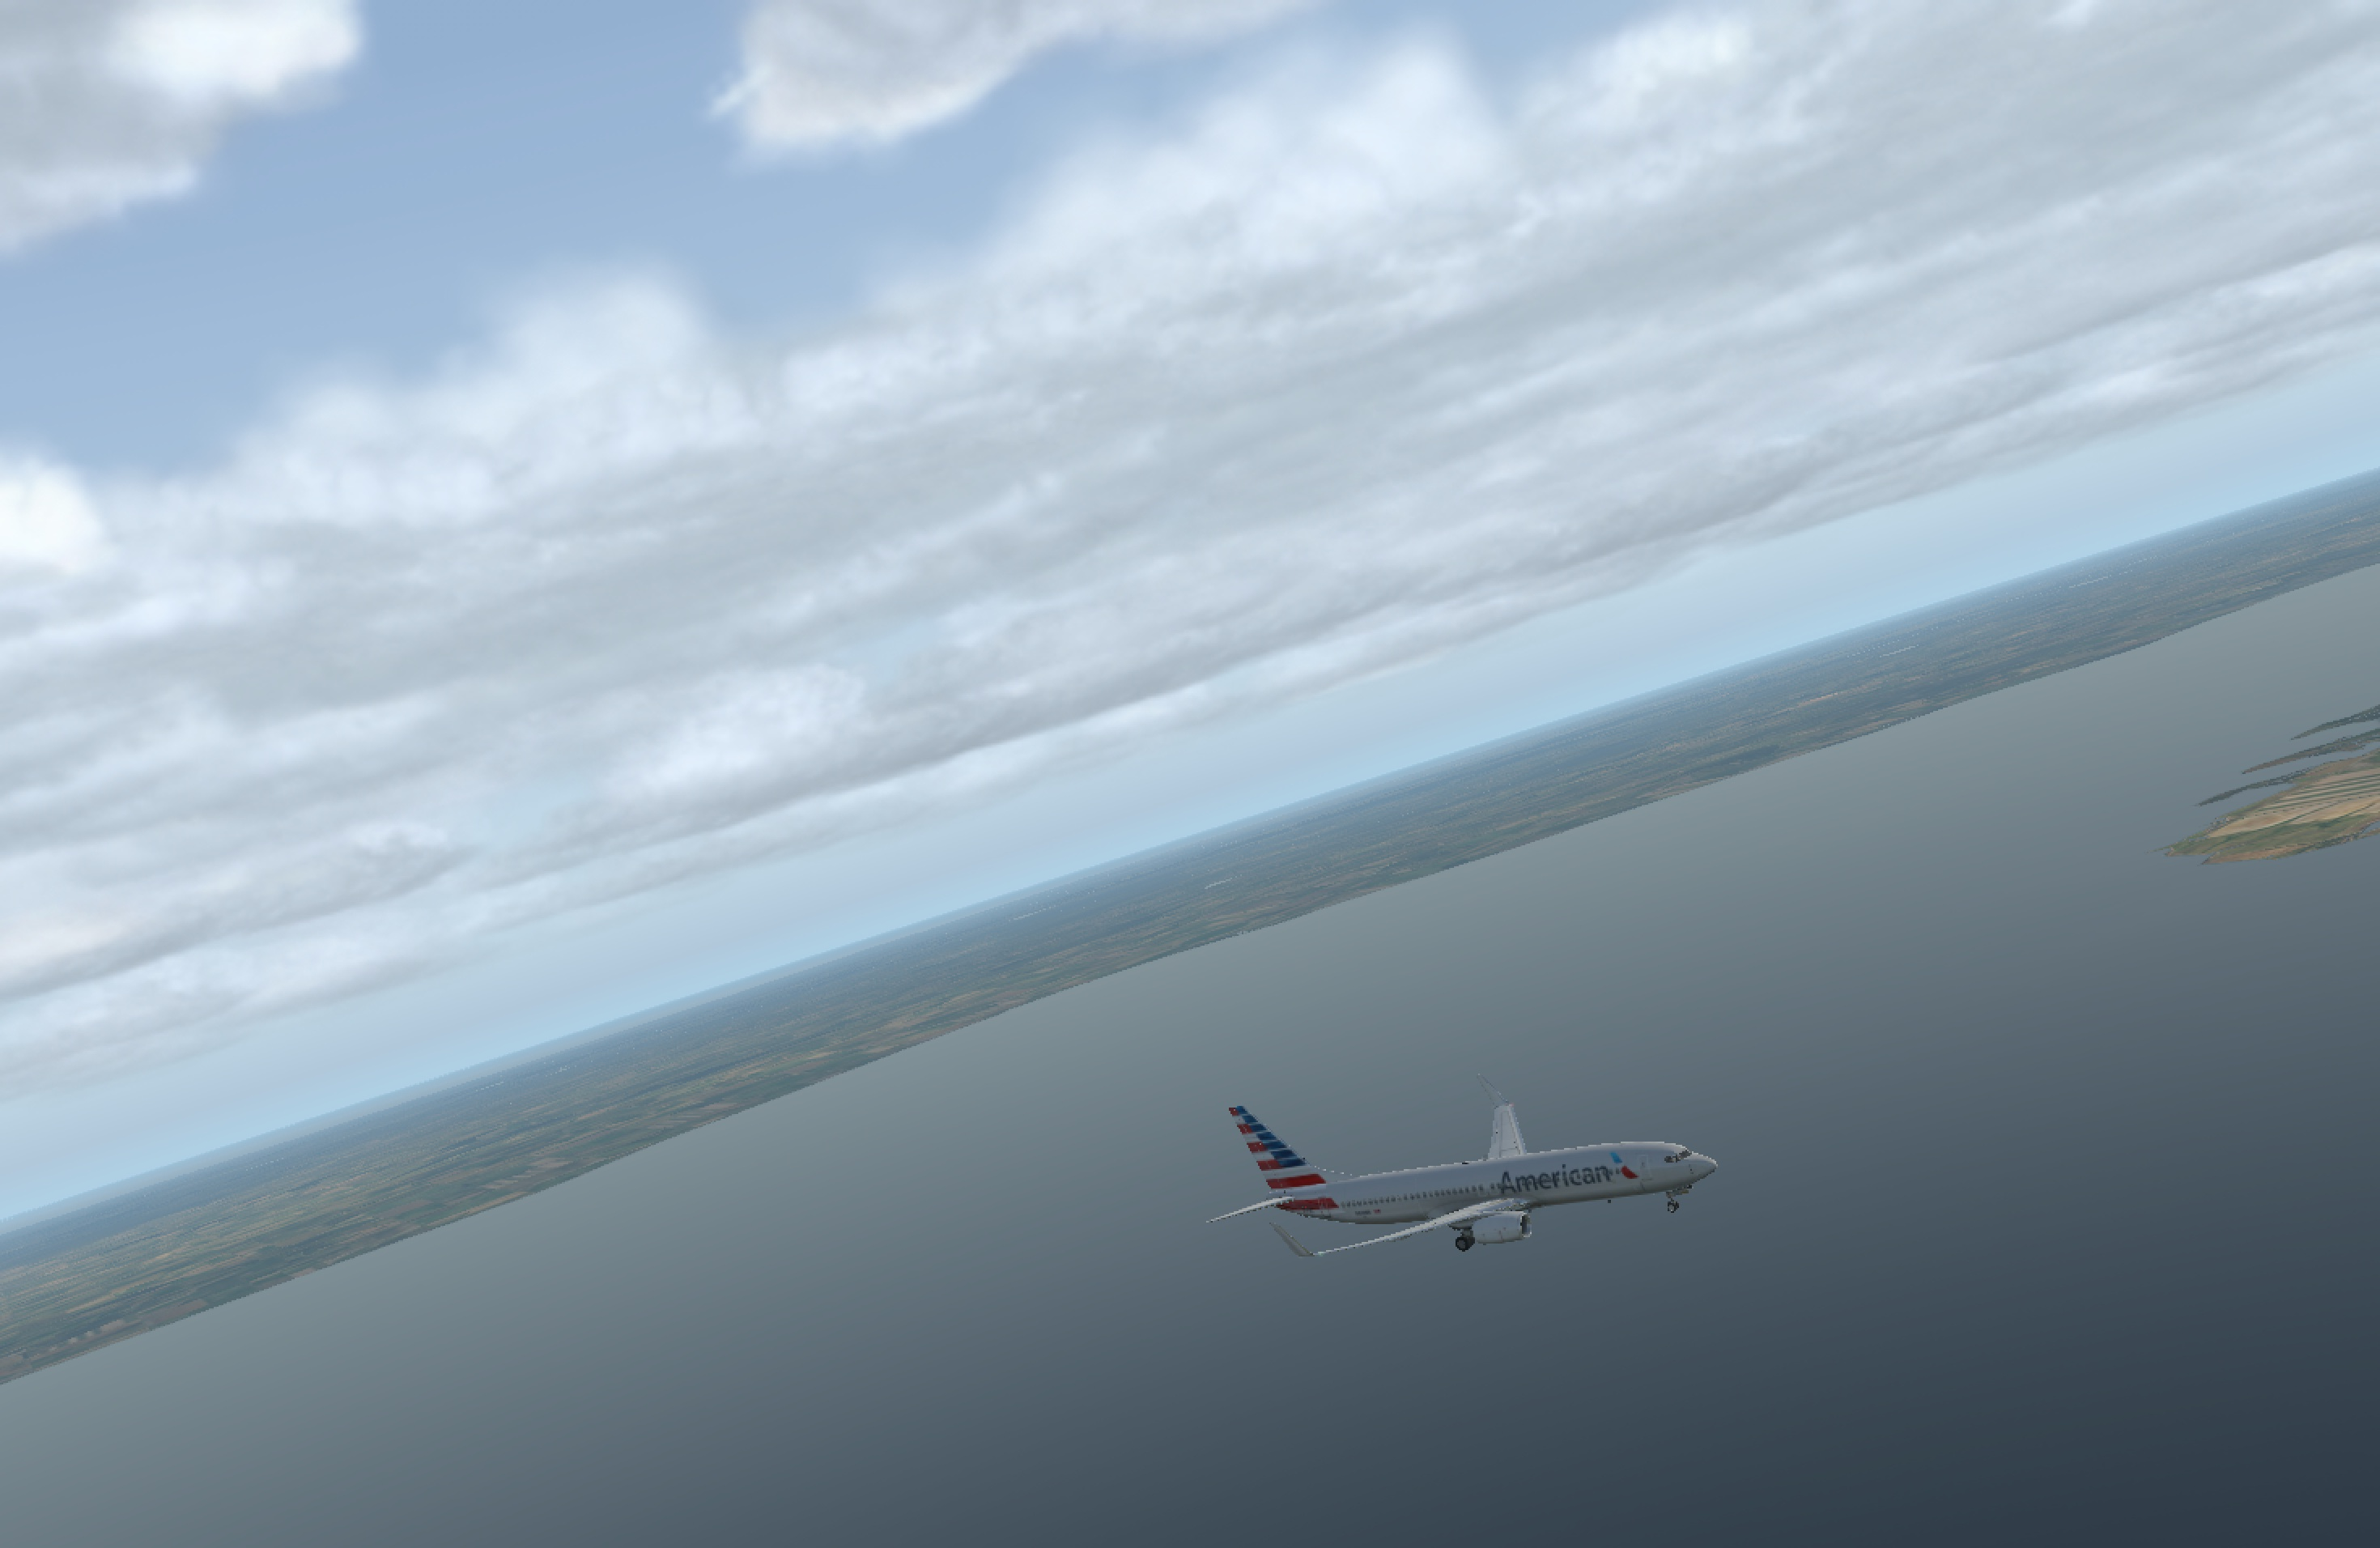aircraft: (1237, 1100, 1742, 1289)
